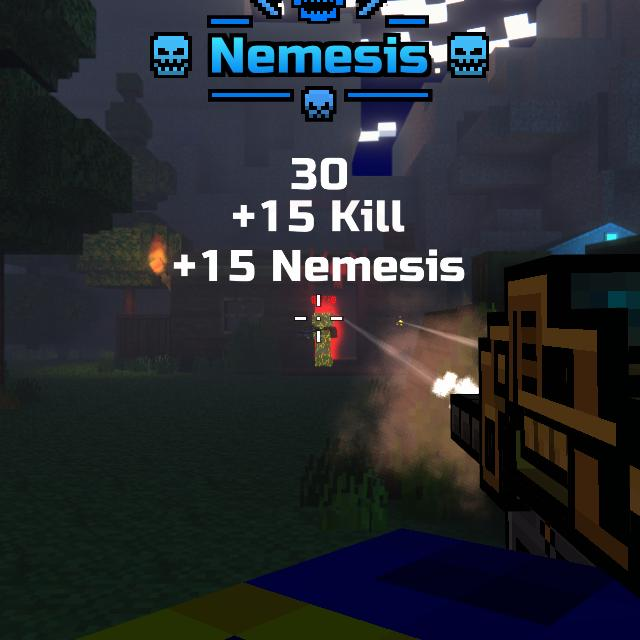Enemy: (313, 313, 337, 367)
